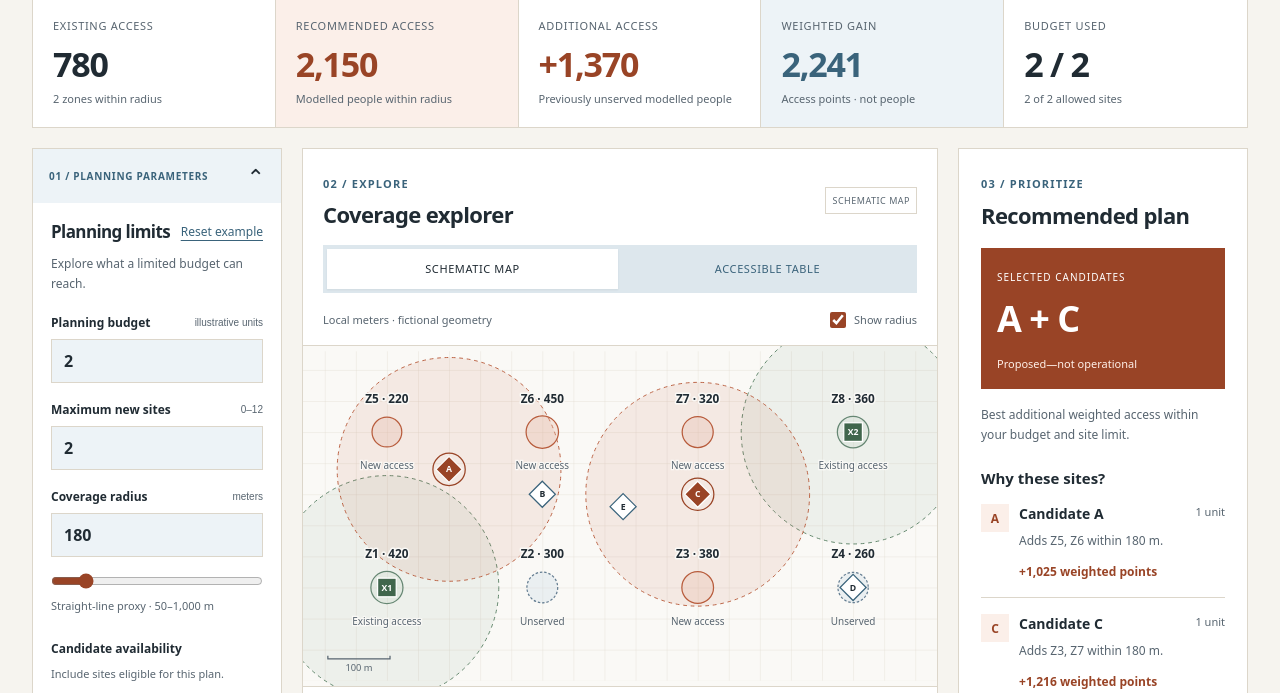
Scenario: edits budget and availability, resets, and keeps provenance visible
(page scrolled)
Expected: the text with test id "selected-sites" reads "A + C", [997, 294, 1079, 343]
Expected: the text "Proposed—not operational" is shown, [997, 356, 1137, 371]
Step 1. Clear the number field labelled "Planning budget illustrative units" → point(157, 361), box [51, 339, 263, 383]
(page scrolled)
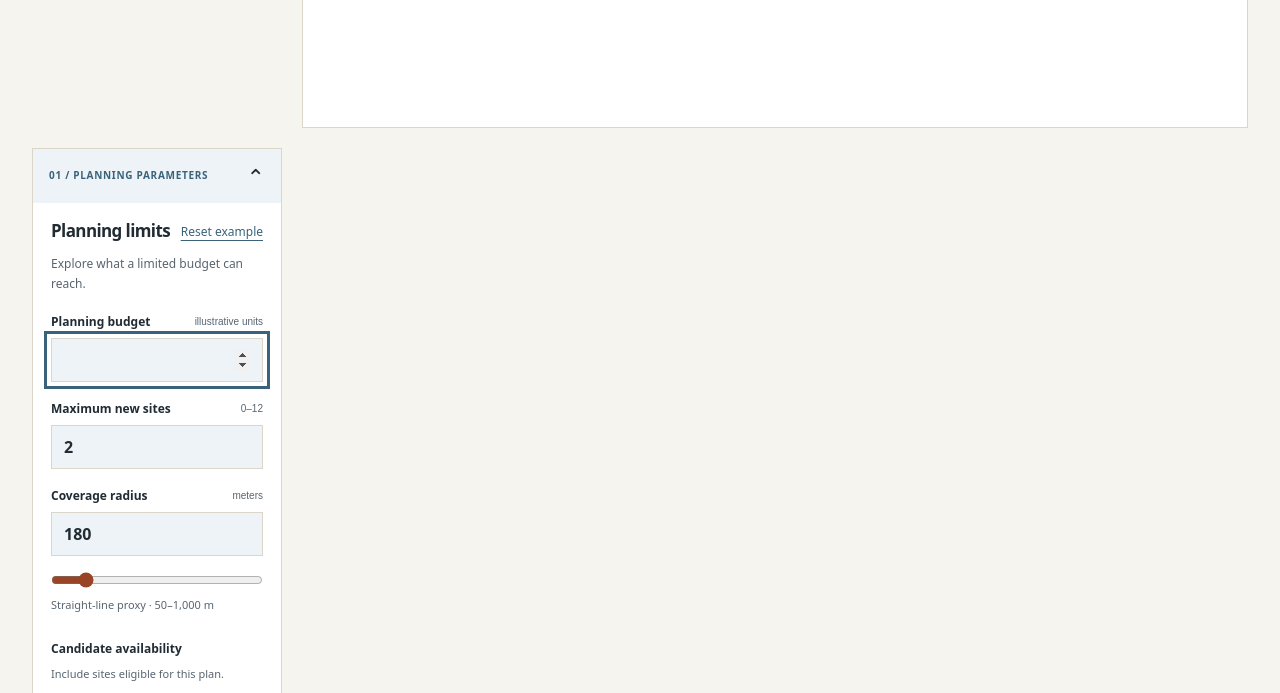
Result: the text with test id "selected-sites" is gone
Step 2. Type "1" into the number field labelled "Planning budget illustrative units" → point(157, 360), box [51, 338, 263, 382]
(page scrolled)
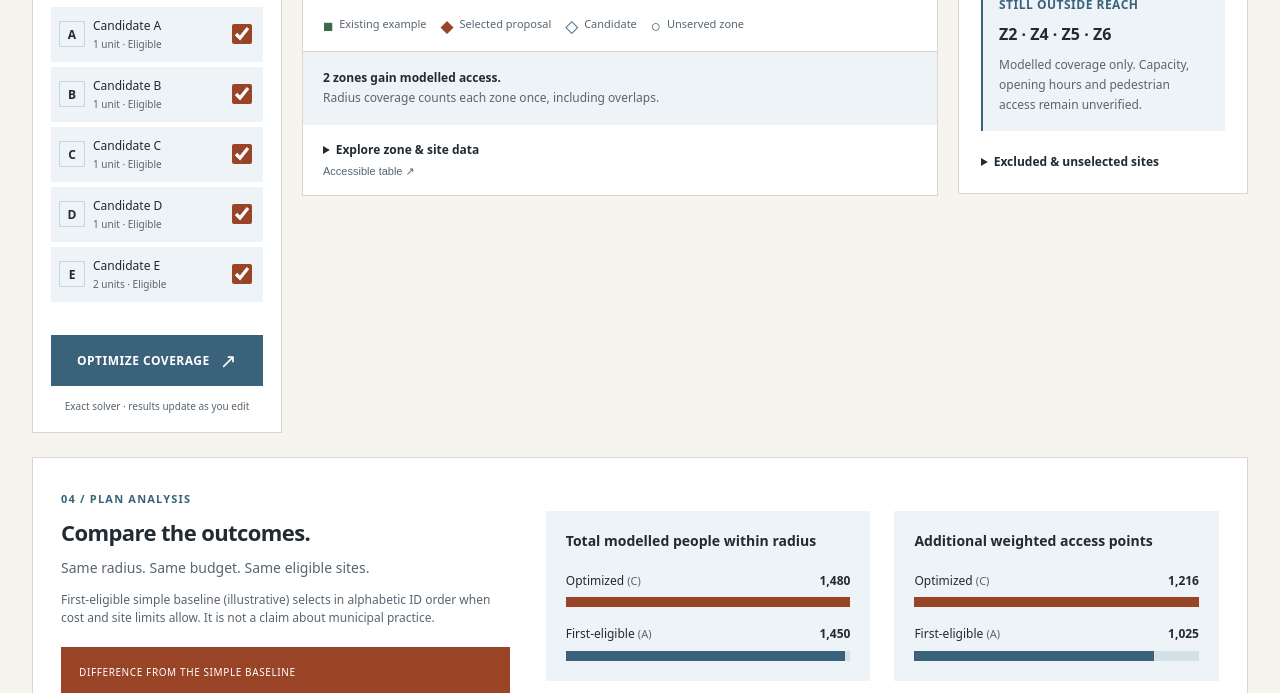
Step 3. Click the button "Optimize Coverage ↗" → point(157, 360), box [51, 335, 263, 386]
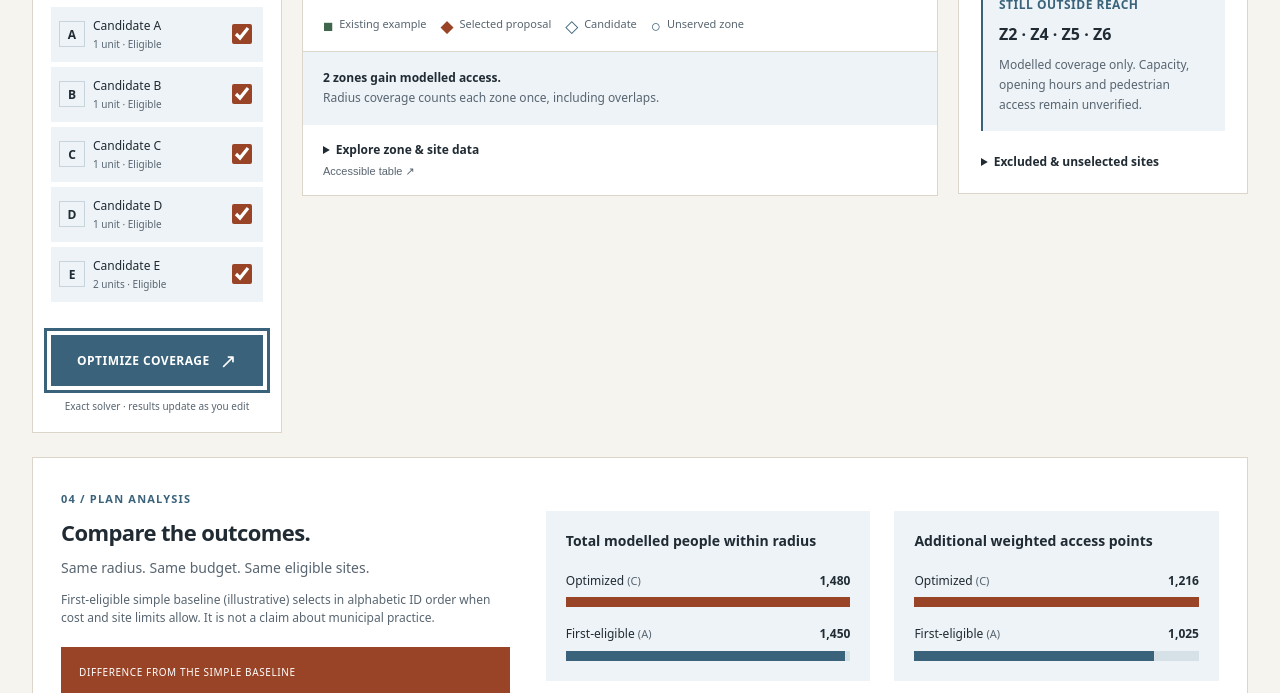
Step 4. Click the checkbox named "Include Candidate C" → point(242, 154), box [232, 144, 252, 164]
(page scrolled)
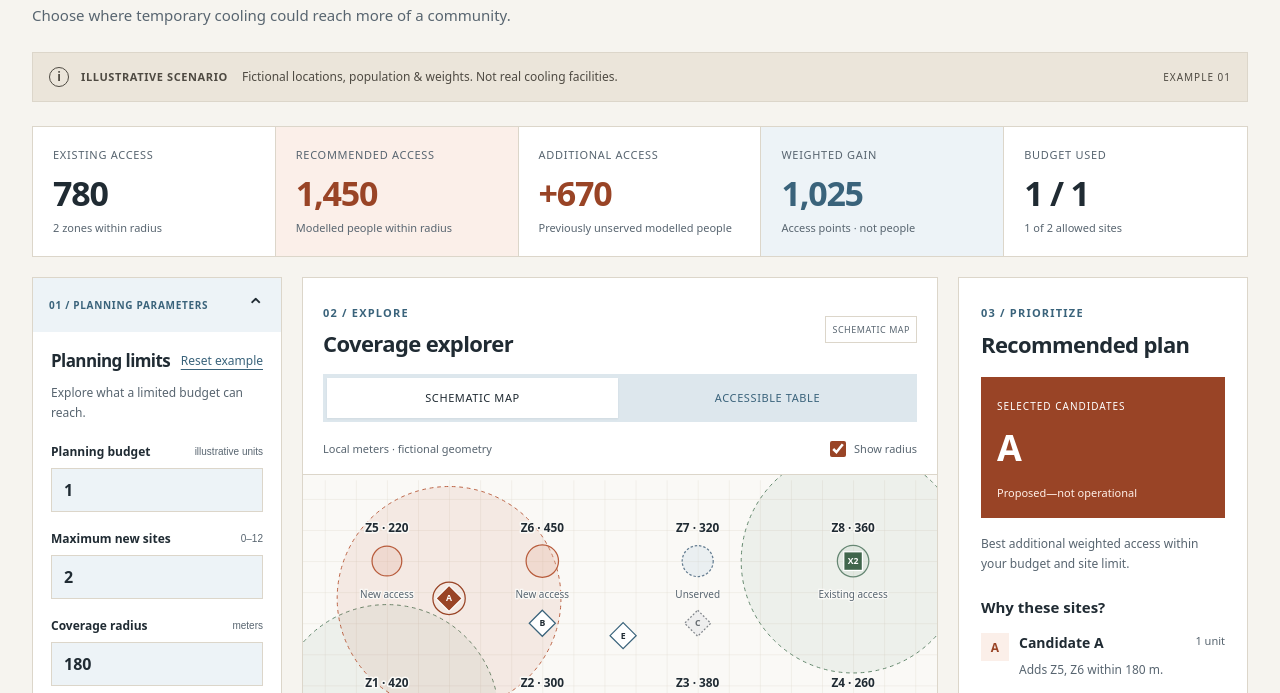
Expected: the text with test id "selected-sites" does not show "C", [997, 423, 1021, 472]
Step 5. Click the button "Reset example" → point(222, 361), box [181, 342, 263, 379]
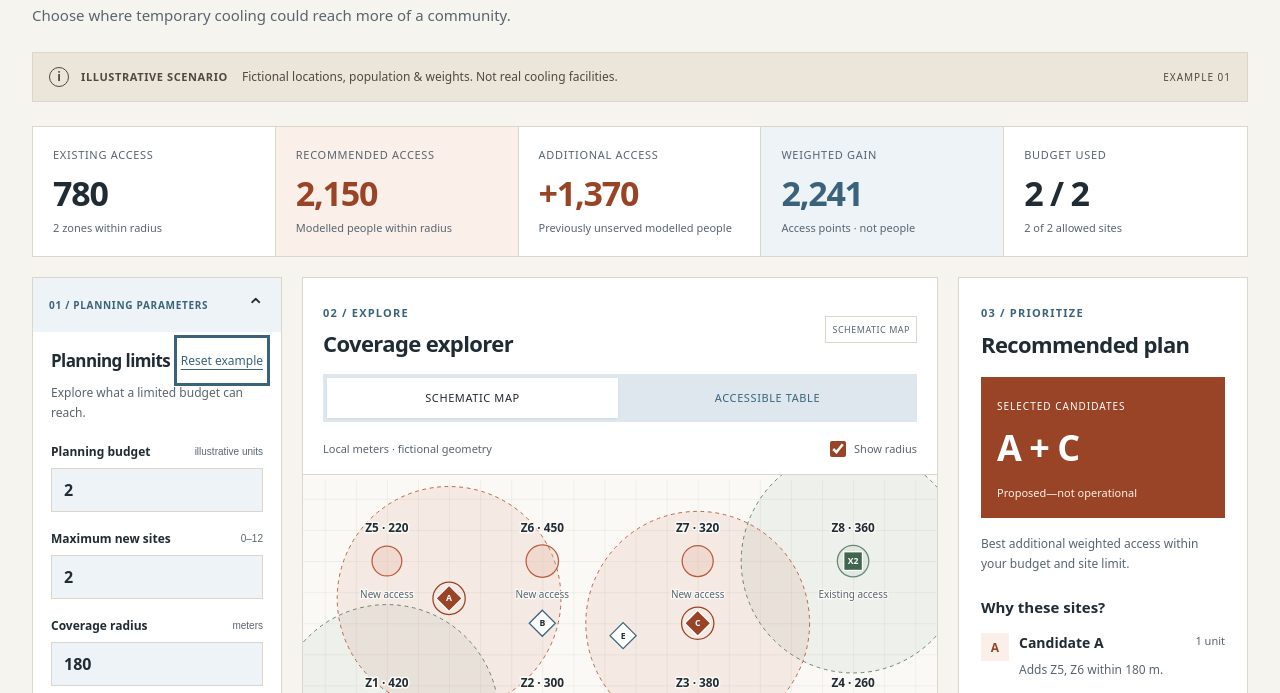
Expected: the text "ILLUSTRATIVE SCENARIO" is shown, [81, 69, 228, 84]
Result: the text with test id "selected-sites" reads "A + C" at [997, 423, 1079, 472]
